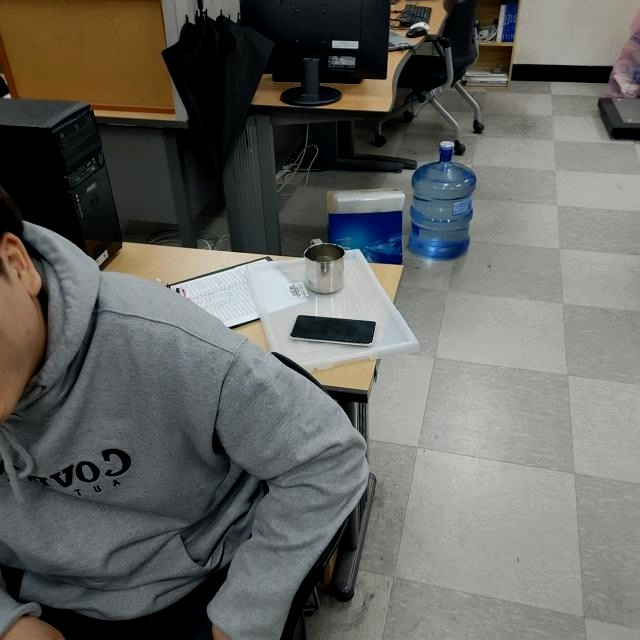cup: (303, 238, 346, 295)
phone: (287, 312, 378, 349)
